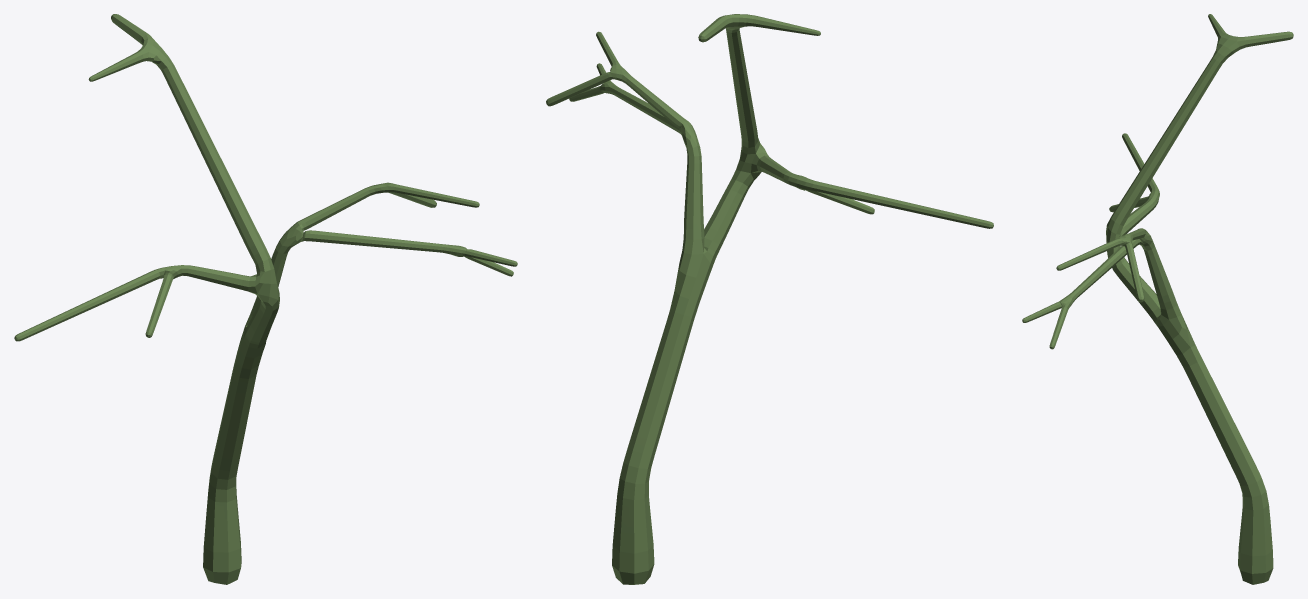
The model's file is plant11.fbx.
3 renders of one model, left to right at view 1: azimuth 30°, elevation 25°; view 2: azimuth 150°, elevation 25°; view 3: azimuth 270°, elevation 25°, orthographic. The views are drawn at different scales.
Parts seen in each view (by area): view 1: Plane.058; view 2: Plane.058; view 3: Plane.058.
Boxes of the visible parts, x1,y1,x2,y2 form: Plane.058: [14, 14, 517, 584]; Plane.058: [546, 14, 993, 584]; Plane.058: [1022, 14, 1293, 584].
Size of the model in its own units: 0.4281 by 0.5162 by 0.2472.
